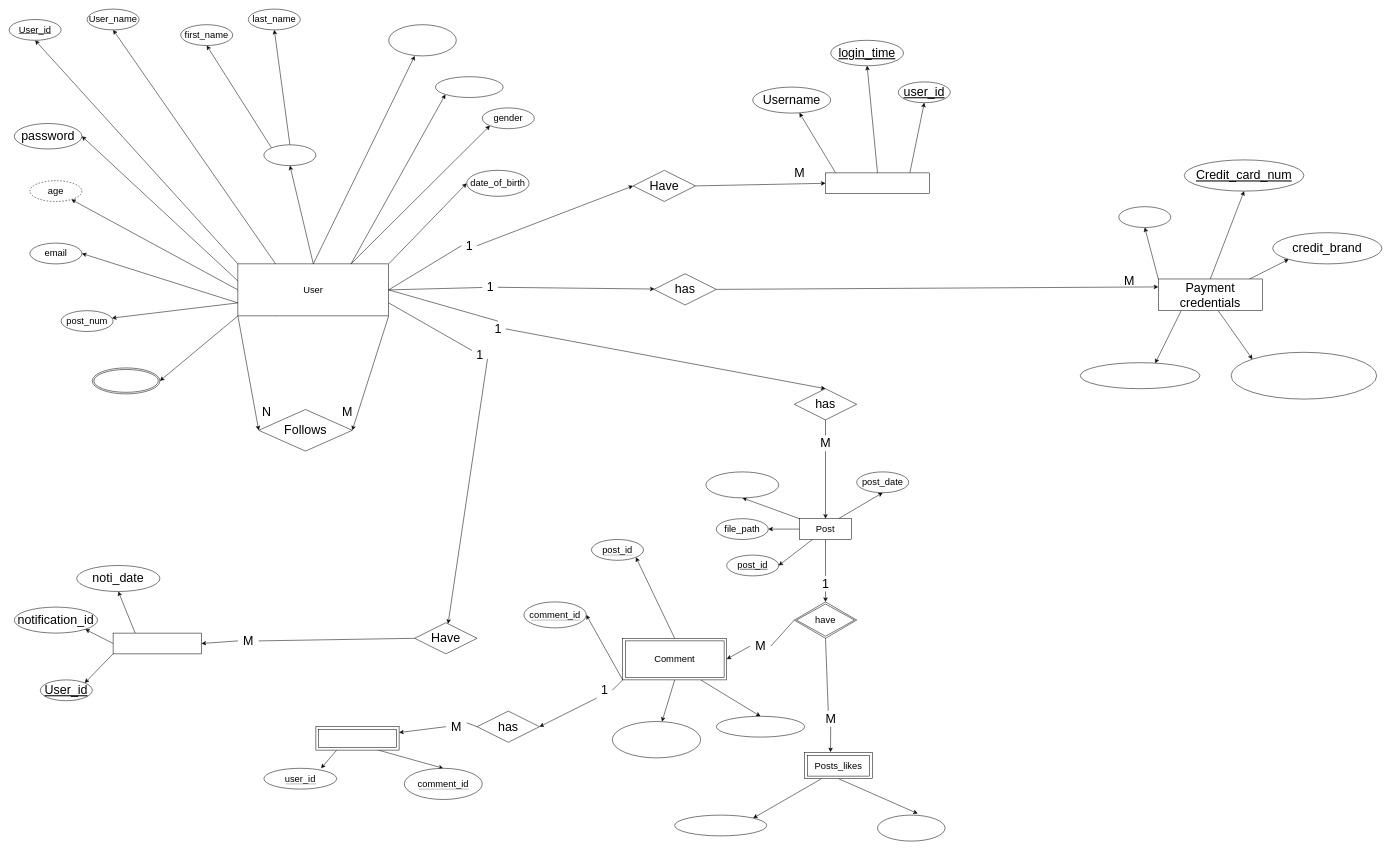
Image size: 1391x850. Some labels were removed from this diagram. Each missing label, with the centre of its shape:
"comment_str" belongs at point (760, 726).
"commented_user_id" belongs at point (656, 739).
"Comments_likes" belongs at point (357, 738).
"credit_card_expire_date" belongs at point (1304, 375).
"credit_card_name" belongs at point (1140, 375).
"CvC" belongs at point (1144, 217).
"liked_user_id" belongs at point (911, 828).
"Login_History" belongs at point (877, 183).
"name" belongs at point (289, 155).
"notifications" belongs at point (157, 643).
"phone_num" belongs at point (126, 380).
"posted_user_id" belongs at point (742, 484).
"posts_id" belongs at point (720, 825).
"user_followers" belongs at point (422, 40).
"user_following" belongs at point (469, 87).
